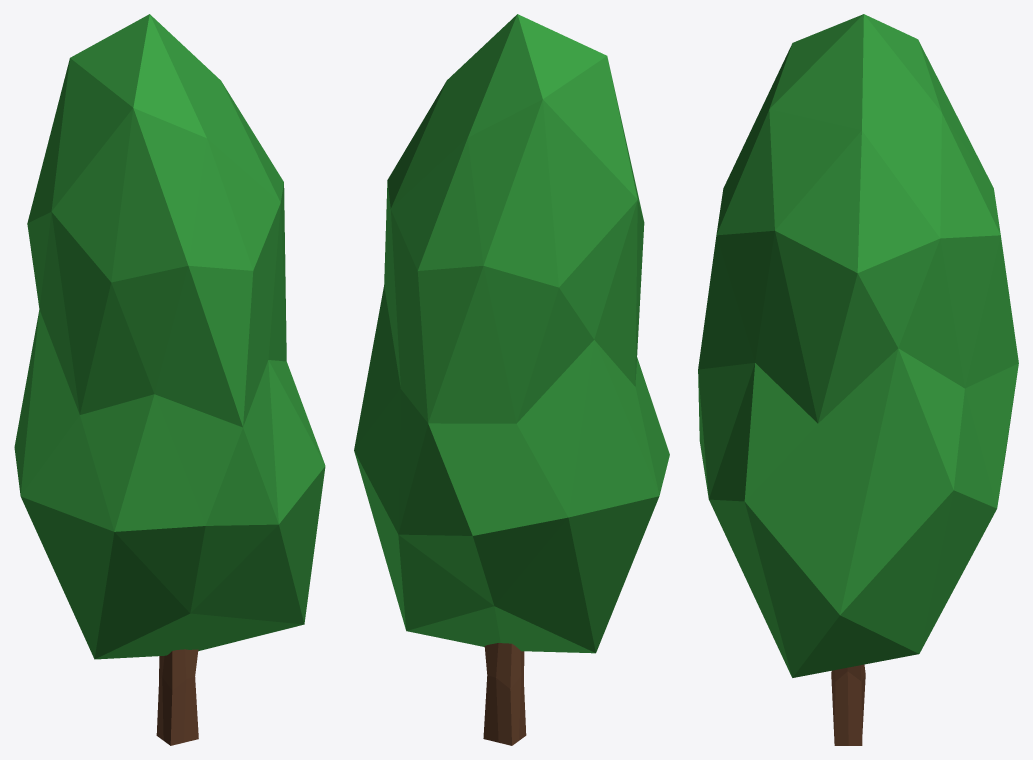
The model's file is Tree_60_Green.fbx.
3 renders of one model, left to right at view 1: azimuth 30°, elevation 25°; view 2: azimuth 150°, elevation 25°; view 3: azimuth 270°, elevation 25°, orthographic. The views are drawn at different scales.
Parts seen in each view (by area): view 1: Tree_60_Green_Part_1, Tree_60_Green_Part_2; view 2: Tree_60_Green_Part_1, Tree_60_Green_Part_2; view 3: Tree_60_Green_Part_1, Tree_60_Green_Part_2.
Part boxes in pixels (x1=…): Tree_60_Green_Part_1: x1=14, y1=14, x2=325, y2=659; Tree_60_Green_Part_2: x1=156, y1=649, x2=198, y2=745; Tree_60_Green_Part_1: x1=354, y1=14, x2=669, y2=653; Tree_60_Green_Part_2: x1=483, y1=643, x2=526, y2=745; Tree_60_Green_Part_1: x1=698, y1=14, x2=1018, y2=677; Tree_60_Green_Part_2: x1=831, y1=664, x2=865, y2=745.
Size of the model in its own units: 327 by 788 by 320.
